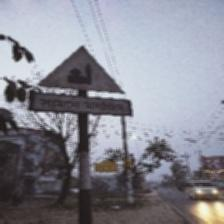Mosque in front: (35, 45, 129, 117)
